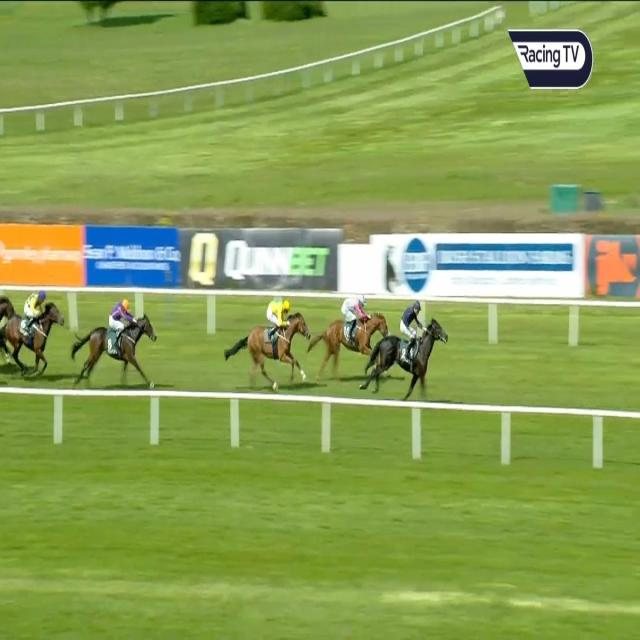horses-racing: (366, 299, 448, 399), (230, 298, 310, 392), (72, 302, 156, 386), (316, 294, 385, 380), (1, 291, 66, 376)
